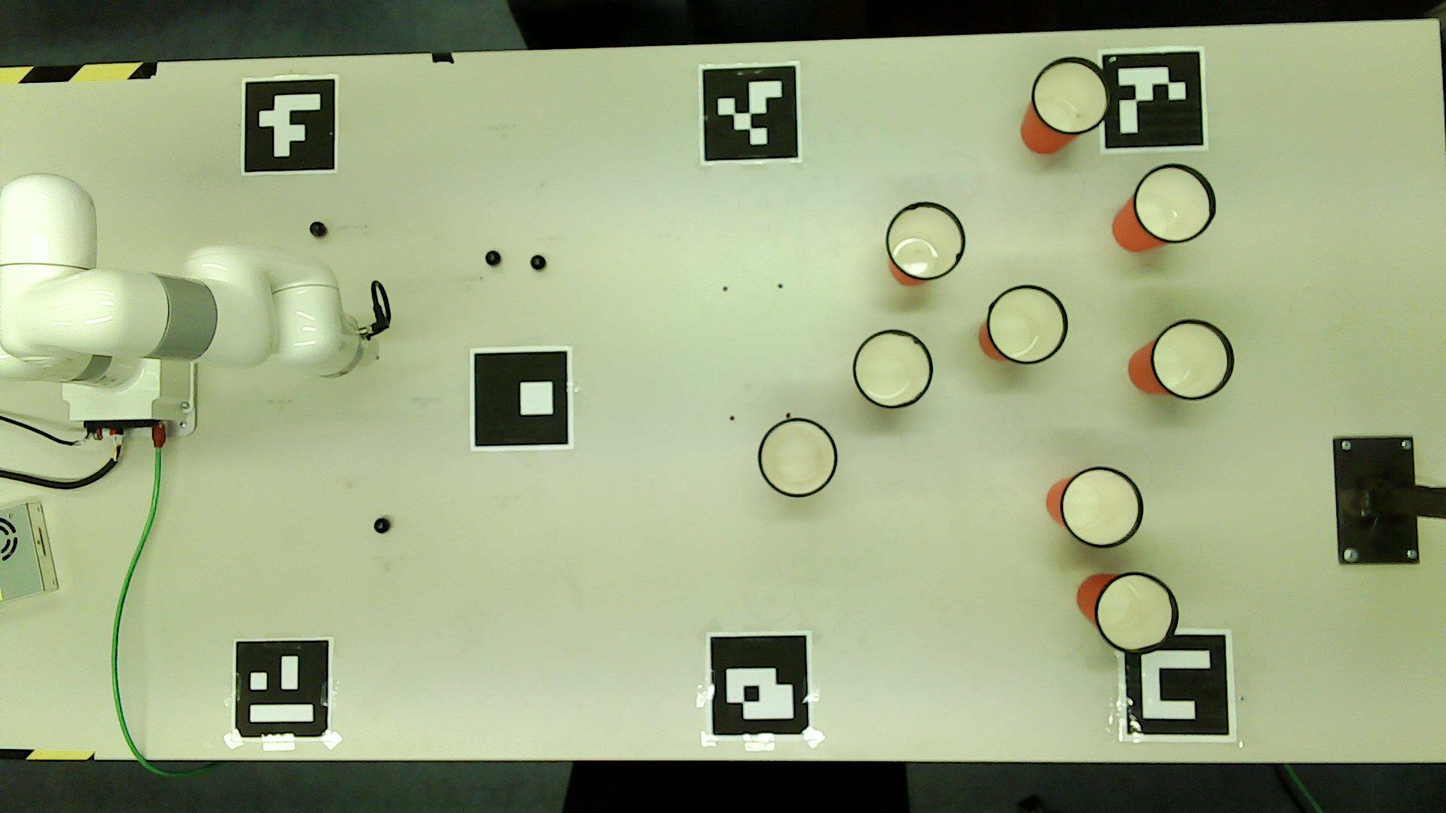ball: (486, 251, 500, 265), (311, 223, 325, 236), (375, 520, 388, 533), (532, 256, 545, 269)
cup: (1064, 468, 1142, 546), (1098, 574, 1176, 652), (1136, 165, 1213, 242), (1155, 321, 1232, 396), (760, 420, 835, 496), (1034, 59, 1110, 132), (889, 205, 964, 278), (993, 287, 1066, 361), (856, 333, 931, 405)
